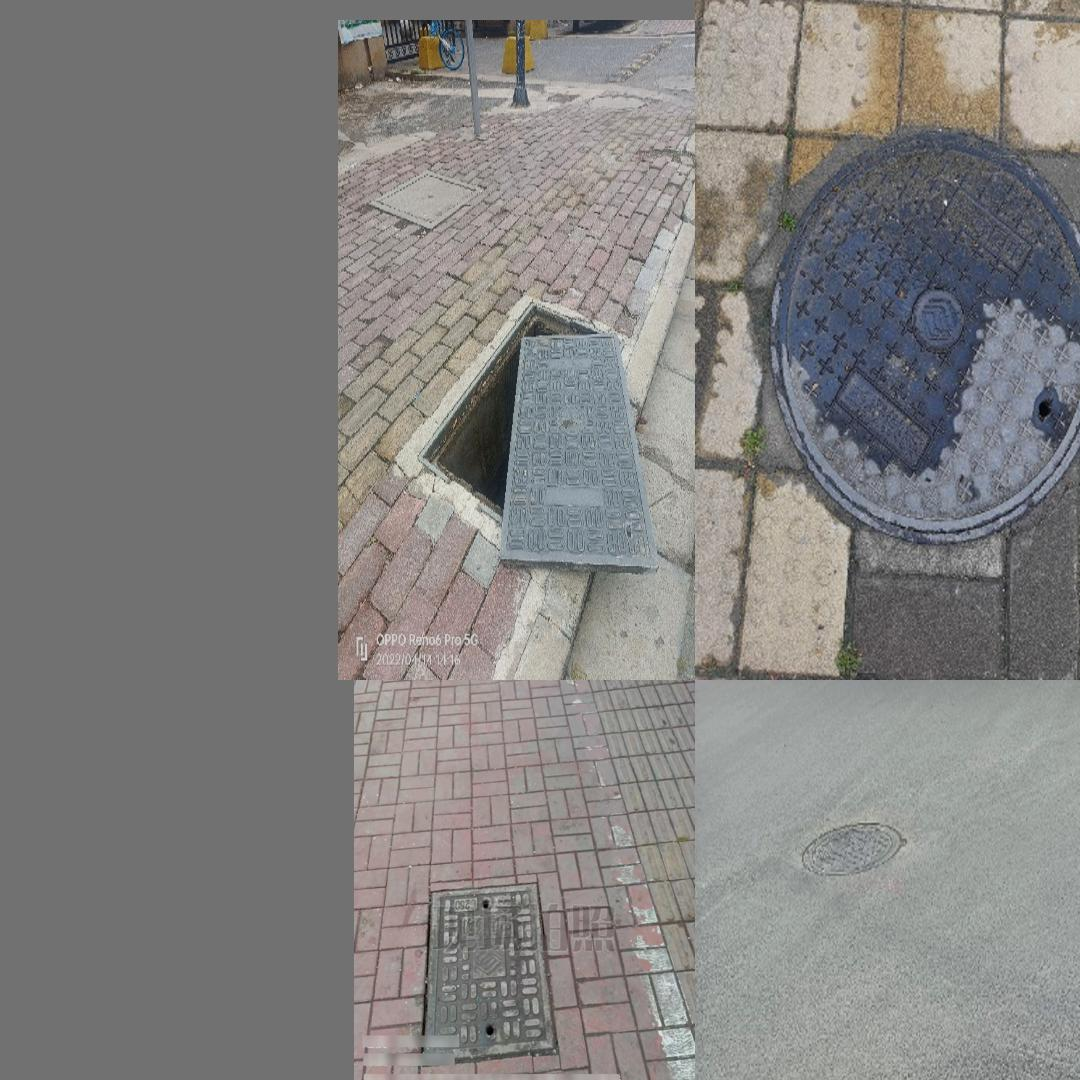good: (769, 134, 1080, 542), (419, 883, 557, 1067), (366, 170, 484, 231), (800, 819, 909, 879)
uncovered: (397, 289, 657, 575)
